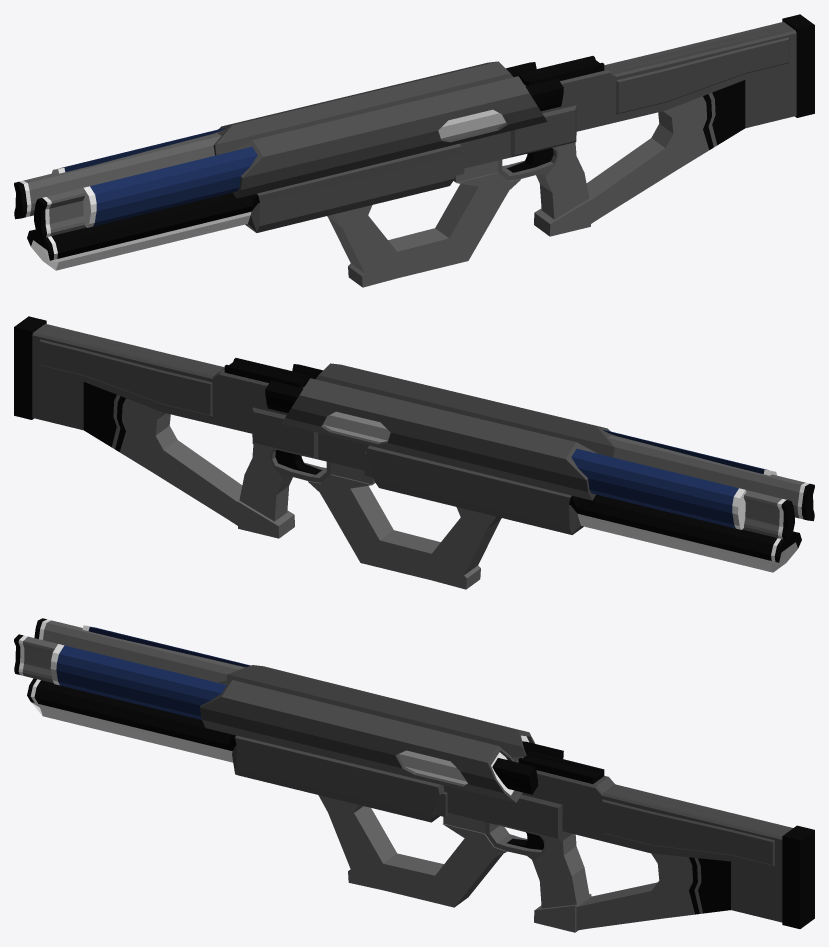
File: railgun.fbx
3 views of the same model, one above another, from view 1: azimuth 30°, elevation 25°; view 2: azimuth 150°, elevation 25°; view 3: azimuth 330°, elevation 25° (orthographic).
Visible parts, largest first — view 1: Cube; view 2: Cube; view 3: Cube.
Part boxes in pixels (left/top/right/bottom): Cube: left=14, top=14, right=814, bottom=287; Cube: left=14, top=316, right=814, bottom=589; Cube: left=14, top=618, right=814, bottom=932.
Bounding box in the file's own units: 691 × 150 × 65.8.
